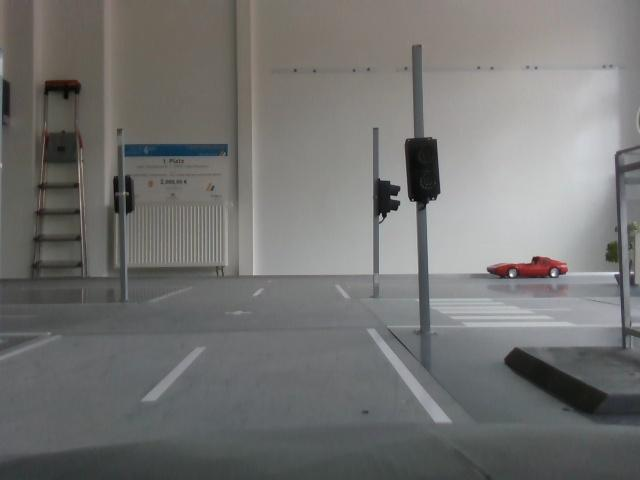car: (491, 246, 571, 288)
traffic light: (403, 133, 441, 206), (371, 180, 403, 225)
